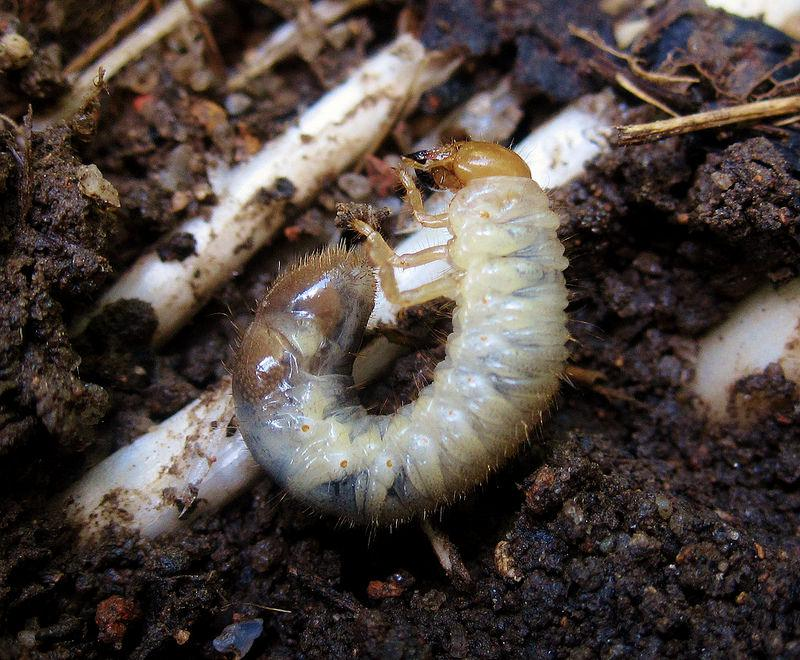grub: (229, 135, 575, 536)
